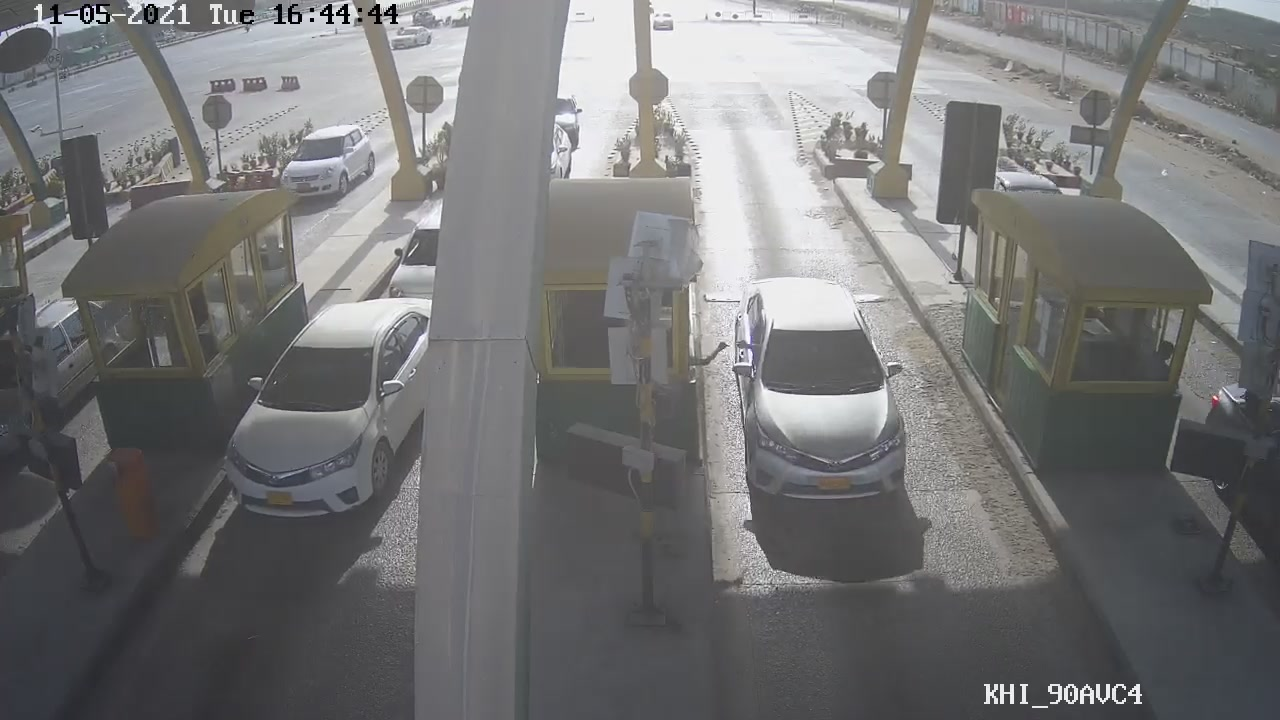F1: (728, 276, 921, 510)
